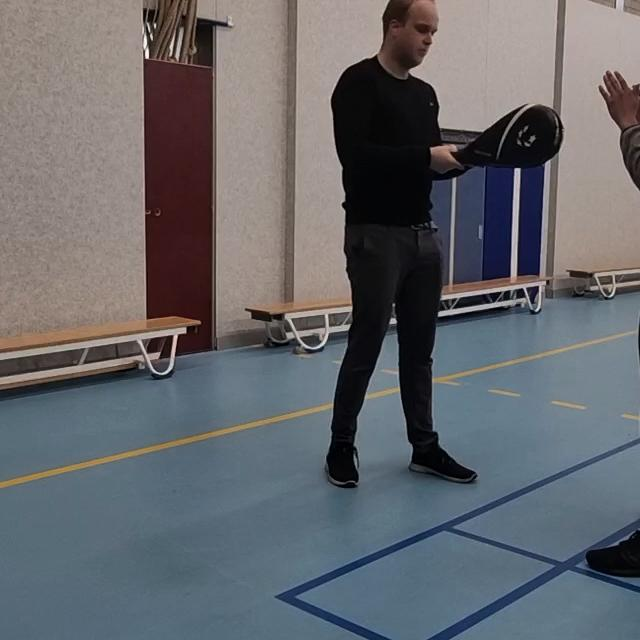paddle: (451, 100, 567, 172)
